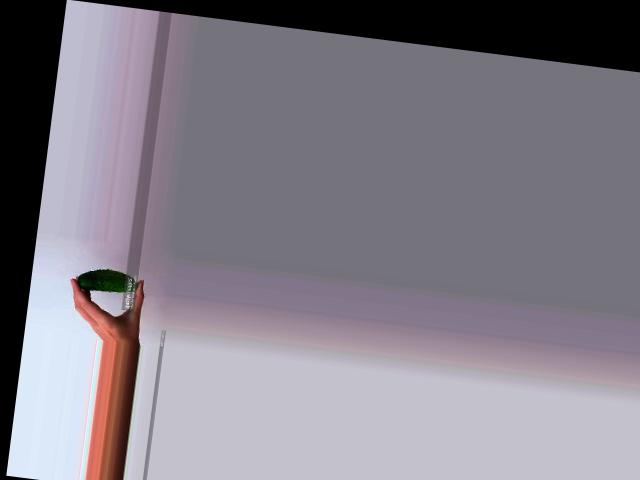cucumber: (76, 265, 139, 295)
